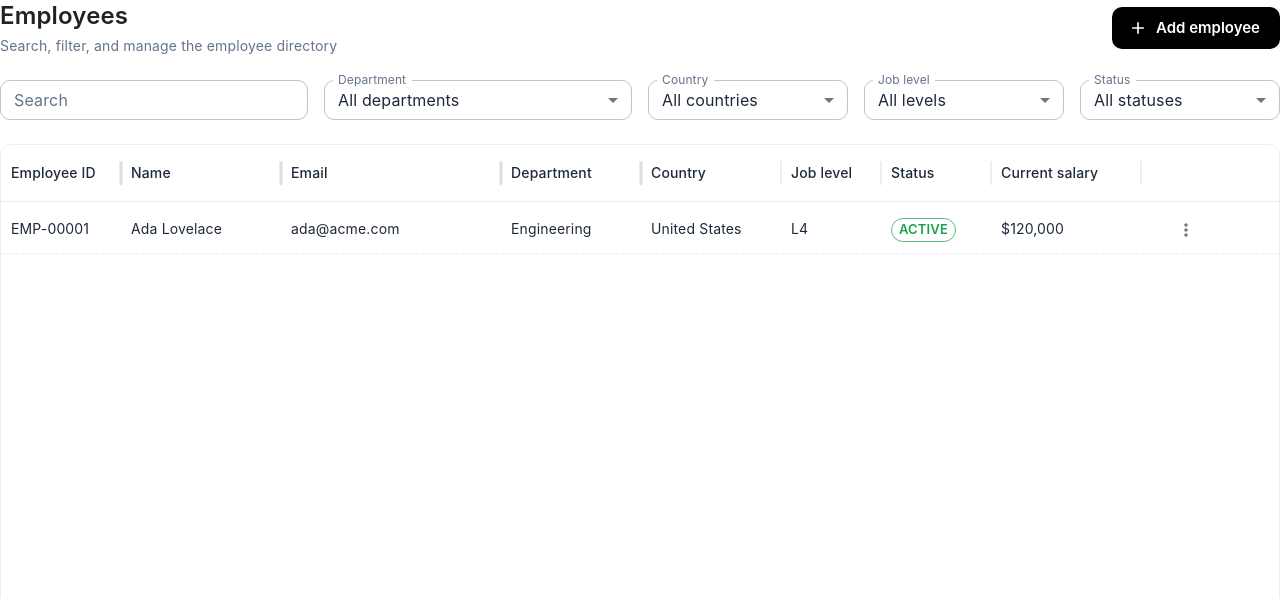
Test: EmployeeListPage (render) › opens the view drawer with employee profile and salary history when View is clicked
This screenshot has width=1280, height=598.
Expected: the text "Ada Lovelace" is shown, [131,220,222,237]
Click the button named "actions for ada lovelace".
click(1186, 230)  # box [1171,215,1201,245]
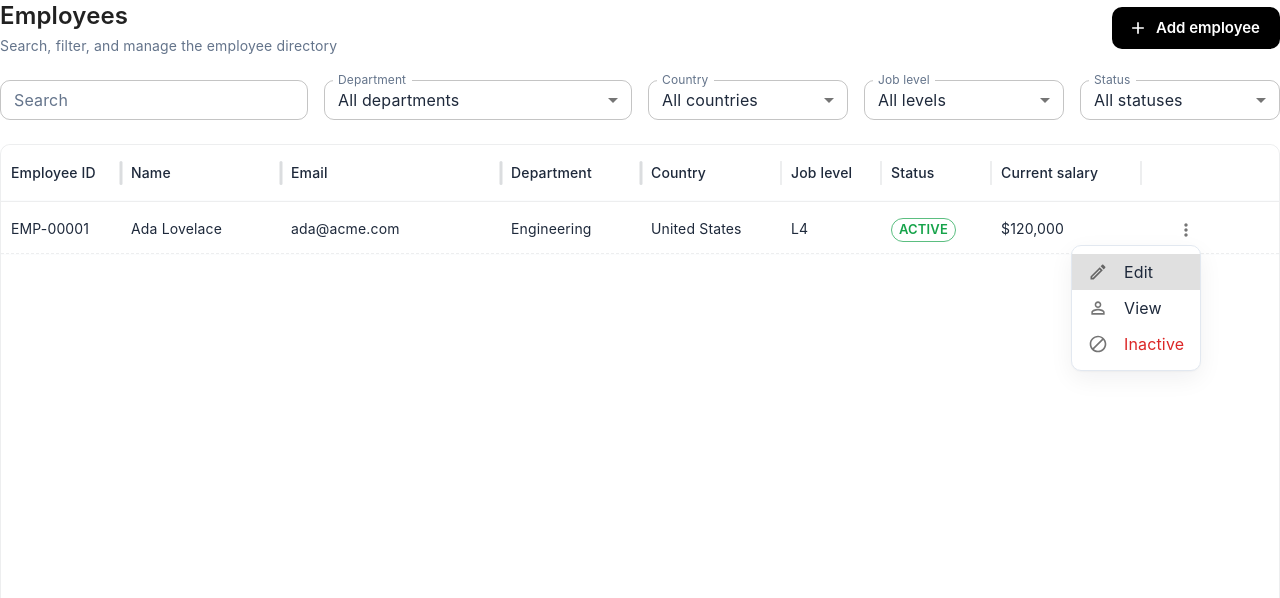
Click the menu item "View".
click(1125, 308)  # box [1088,298,1162,318]
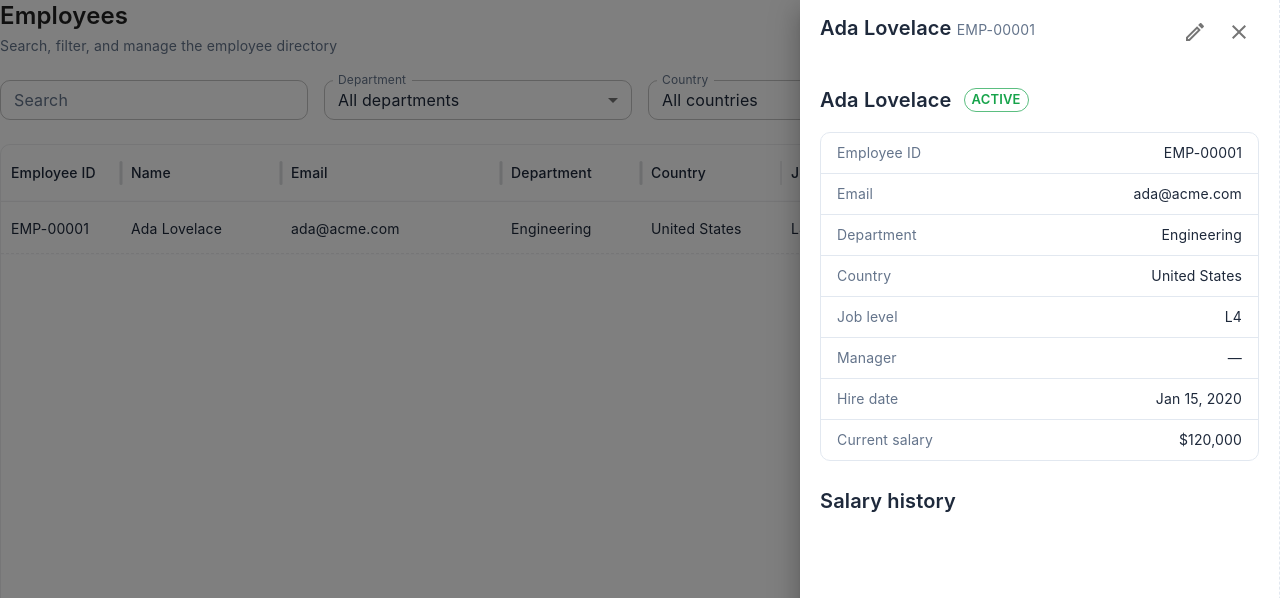
Expected: the text "EMP-00001" is shown, [11,220,89,237]
Now the heading "Salary history" is shown, box [820,489,956,513]
